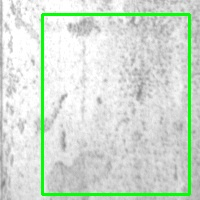pitted_surface: (42, 14, 189, 194)
